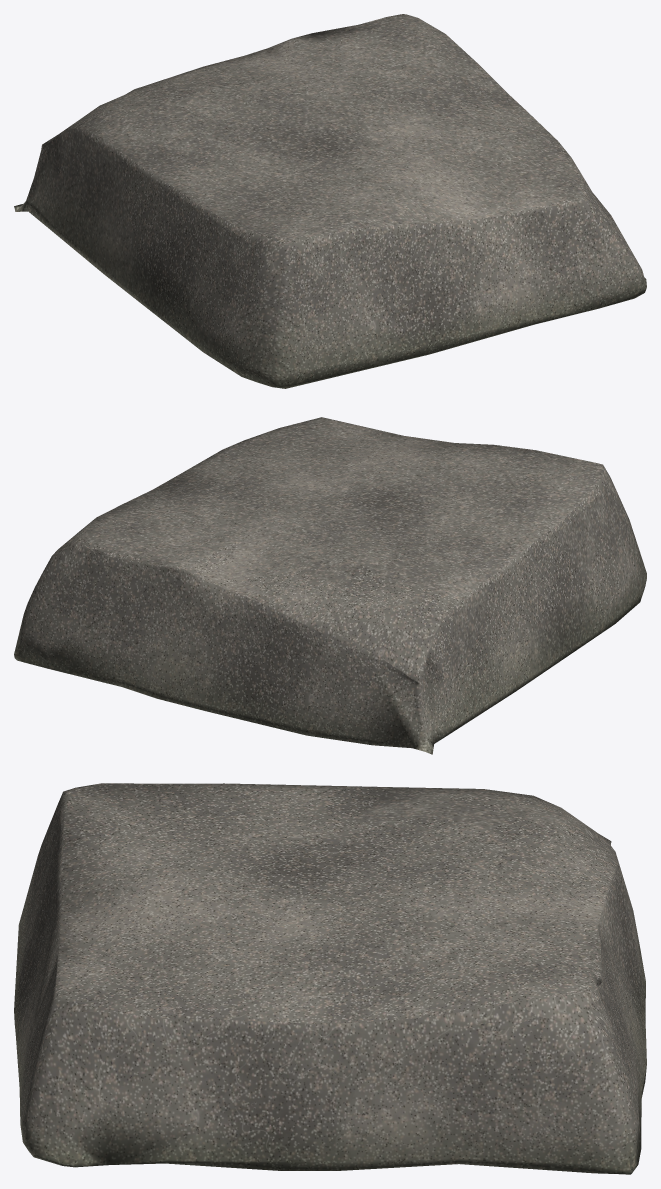
File: Pebble_Square_1.gltf
3 renders of one model, top to bottom at view 1: azimuth 30°, elevation 25°; view 2: azimuth 150°, elevation 25°; view 3: azimuth 270°, elevation 25°, orthographic. The views are drawn at different scales.
Visible parts, largest first — view 1: Pebble_Square_1; view 2: Pebble_Square_1; view 3: Pebble_Square_1.
Part boxes in pixels (left/top/right/bottom): Pebble_Square_1: left=14, top=14, right=646, bottom=388; Pebble_Square_1: left=14, top=417, right=646, bottom=754; Pebble_Square_1: left=14, top=783, right=646, bottom=1174.
Size of the model in its own units: 0.4318 by 0.1333 by 0.444.
Materials: 1 (1 with a texture image).
